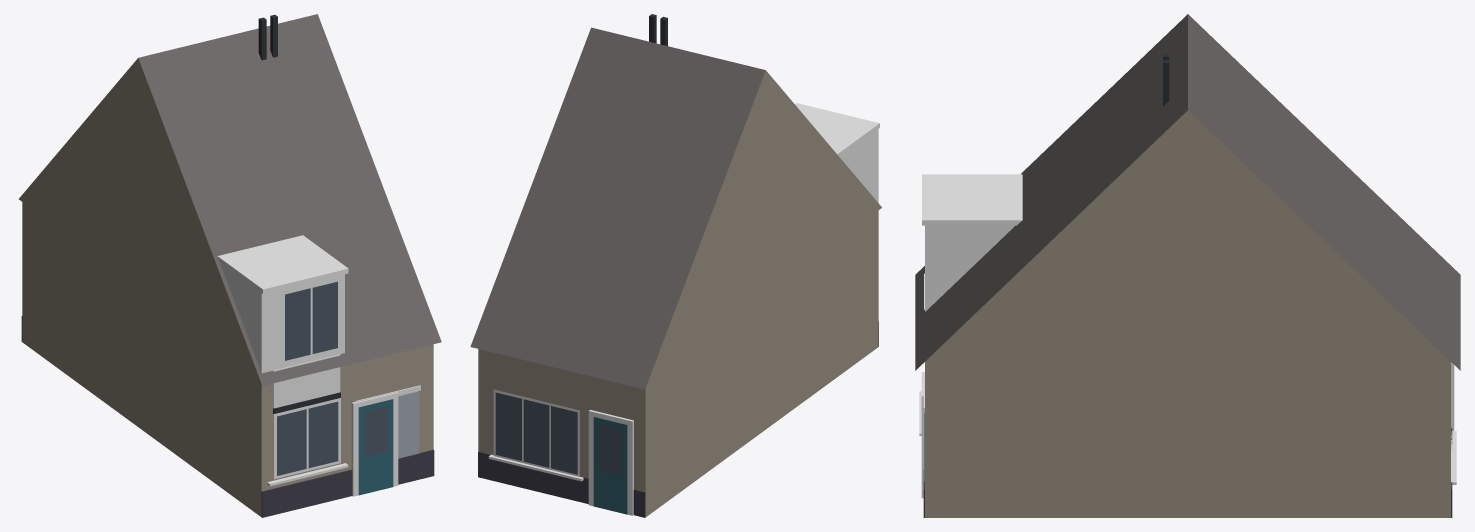
The model's file is nw-ee-box-front__box__2__gable__long__solid__mirror.glb.
3 renders of one model, left to right at view 1: azimuth 30°, elevation 25°; view 2: azimuth 150°, elevation 25°; view 3: azimuth 270°, elevation 25°, orthographic. The views are drawn at different scales.
Parts seen in each view (by area): view 1: nw-ee-box-front__box__2__gable__long__solid__mirror; view 2: nw-ee-box-front__box__2__gable__long__solid__mirror; view 3: nw-ee-box-front__box__2__gable__long__solid__mirror.
Part boxes in pixels (x1=…): nw-ee-box-front__box__2__gable__long__solid__mirror: x1=19, y1=14, x2=441, y2=517; nw-ee-box-front__box__2__gable__long__solid__mirror: x1=470, y1=14, x2=881, y2=517; nw-ee-box-front__box__2__gable__long__solid__mirror: x1=915, y1=14, x2=1460, y2=517.
Bounding box in the file's own units: 4.69 × 9.77 × 11.24.
